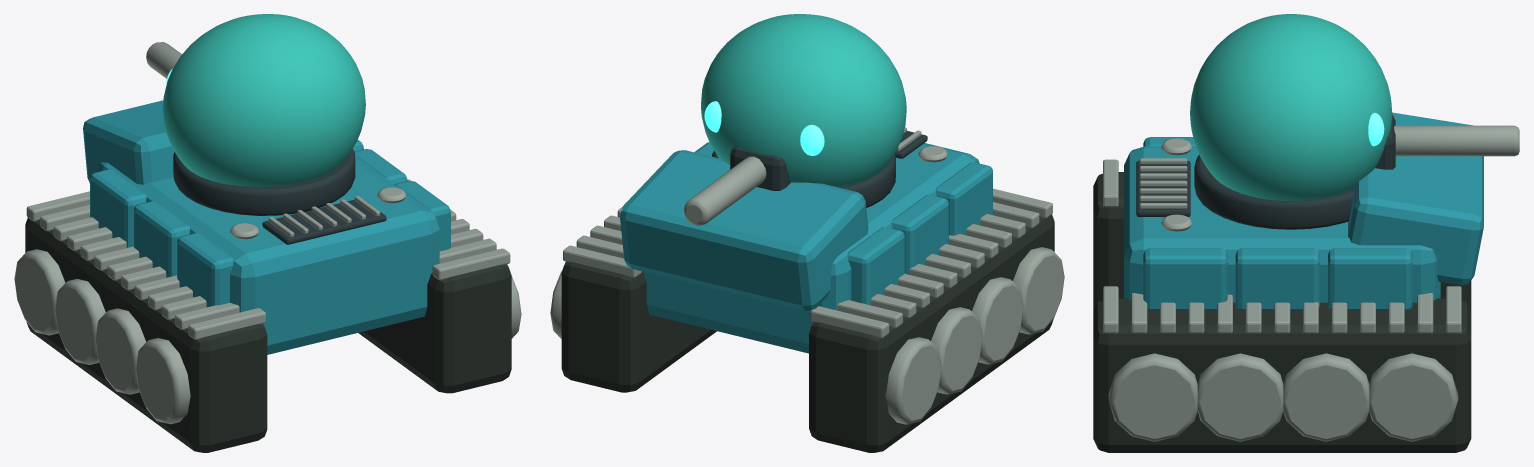
Rendered from battlecity-mayor-tank.glb.
3 views of the same model, side by side, from view 1: azimuth 30°, elevation 25°; view 2: azimuth 150°, elevation 25°; view 3: azimuth 270°, elevation 25° (orthographic). The views are drawn at different scales.
Parts seen in each view (by area): view 1: Mayor cyan command armour, Mayor teal command dome, Track rubber, Brushed steel, DX dark machinery, Brushed steel Cannon recoil; view 2: Mayor cyan command armour, Track rubber, Mayor teal command dome, Brushed steel, DX dark machinery, Brushed steel Cannon recoil, Command glow; view 3: Mayor cyan command armour, Brushed steel, Mayor teal command dome, Track rubber, DX dark machinery, Brushed steel Cannon recoil, Command glow.
Part boxes in pixels (x1,y1,x2,y2): Mayor cyan command armour: [83, 100, 450, 354]; Mayor teal command dome: [162, 14, 365, 186]; Track rubber: [25, 218, 511, 452]; Brushed steel: [14, 179, 521, 424]; DX dark machinery: [173, 149, 386, 244]; Brushed steel Cannon recoil: [146, 42, 181, 78]; Mayor cyan command armour: [620, 142, 992, 353]; Track rubber: [561, 214, 1054, 452]; Mayor teal command dome: [701, 14, 906, 187]; Brushed steel: [550, 127, 1064, 424]; DX dark machinery: [712, 131, 927, 207]; Brushed steel Cannon recoil: [684, 156, 766, 225]; Command glow: [704, 101, 824, 155]; Mayor cyan command armour: [1124, 112, 1483, 310]; Brushed steel: [1103, 138, 1461, 441]; Mayor teal command dome: [1190, 14, 1392, 200]; Track rubber: [1093, 172, 1471, 452]; DX dark machinery: [1136, 114, 1395, 229]; Brushed steel Cannon recoil: [1394, 125, 1519, 156]; Command glow: [1368, 112, 1384, 146].
Bounding box in the file's own units: 0.6755 × 0.616 × 0.679.
